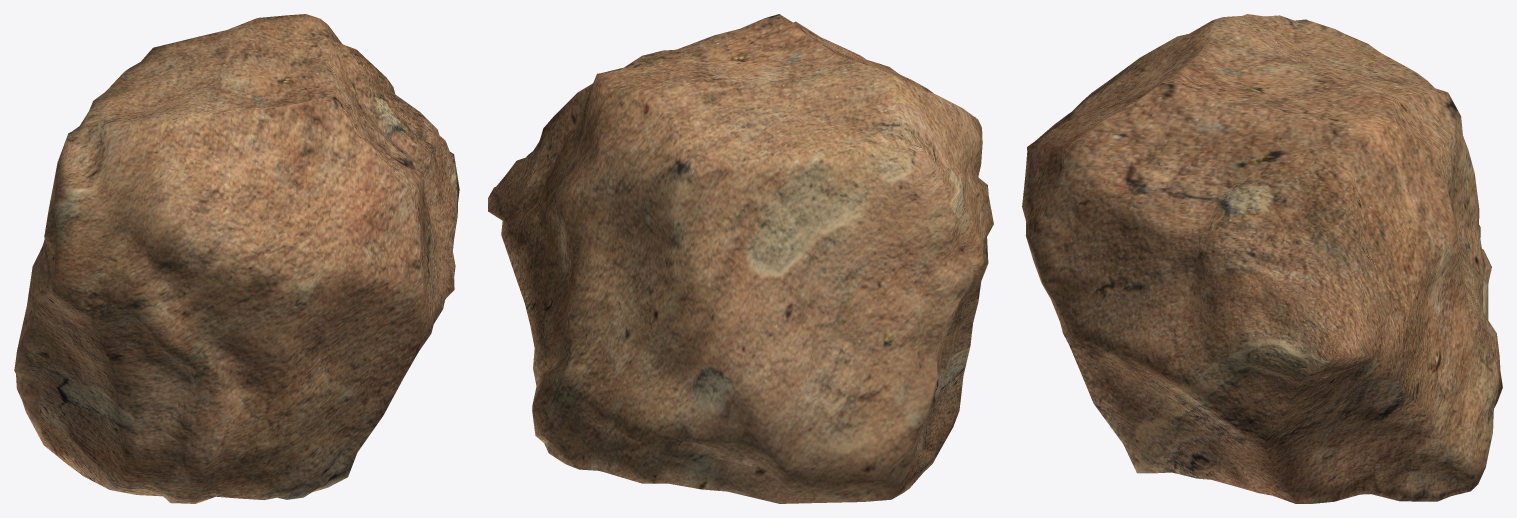
File: Rock-3.obj
The picture shows the model from 3 angles, left to right: view 1: azimuth 30°, elevation 25°; view 2: azimuth 150°, elevation 25°; view 3: azimuth 270°, elevation 25°; orthographic projection. The views are drawn at different scales.
Parts seen in each view (by area): view 1: rock_3; view 2: rock_3; view 3: rock_3.
Boxes of the visible parts, x1,y1,x2,y2 form: rock_3: (14,14,459,503); rock_3: (488,14,993,503); rock_3: (1022,14,1502,503).
Bounding box in the file's own units: 147 × 121 × 131.
Materials: 1 (1 with a texture image).
